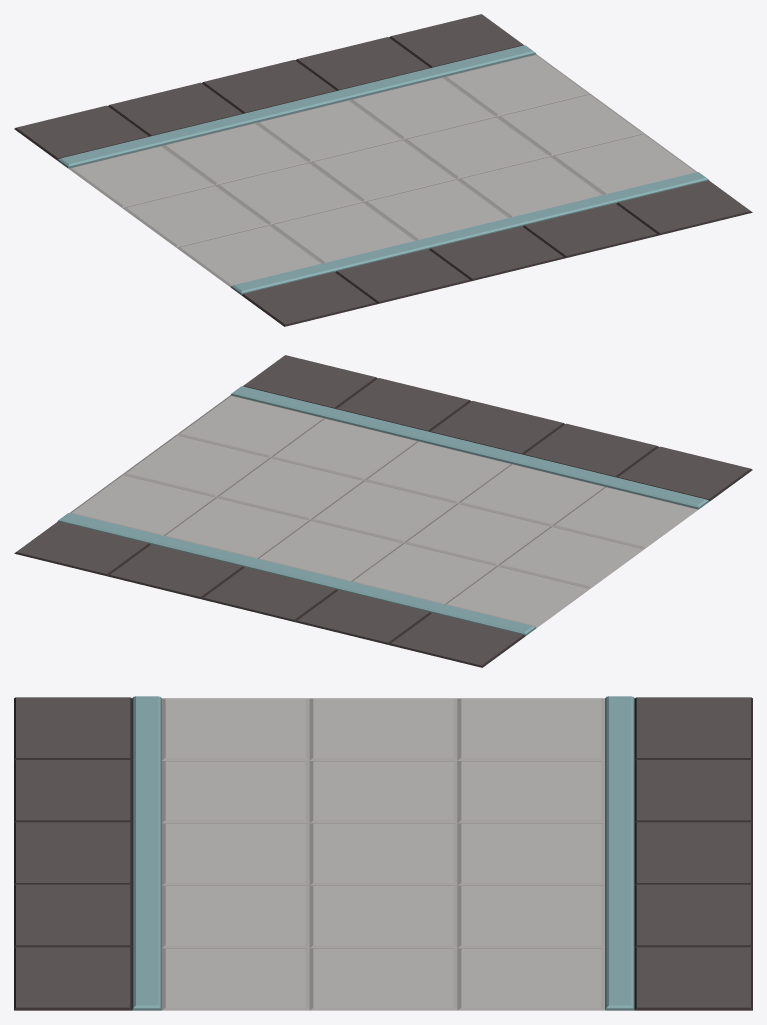
The model's file is Road_0.glb.
The picture shows the model from 3 angles, top to bottom: view 1: azimuth 30°, elevation 25°; view 2: azimuth 150°, elevation 25°; view 3: azimuth 270°, elevation 25°; orthographic projection. The views are drawn at different scales.
Parts seen in each view (by area): view 1: Road_0; view 2: Road_0; view 3: Road_0.
Boxes of the visible parts, x1,y1,x2,y2 form: Road_0: (14, 14, 752, 326); Road_0: (14, 355, 752, 667); Road_0: (14, 696, 752, 1010).
Size of the model in its own units: 16 by 0.0884 by 16.
Materials: 1 (1 with a texture image).
